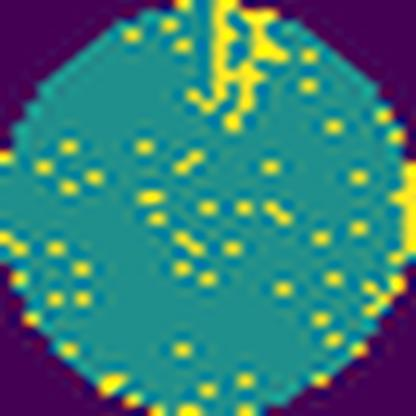Loc: (186, 0, 290, 136)
